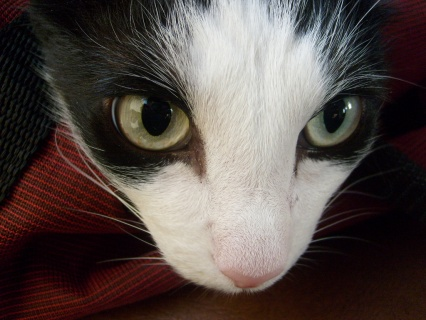Cat: (15, 0, 426, 304)
